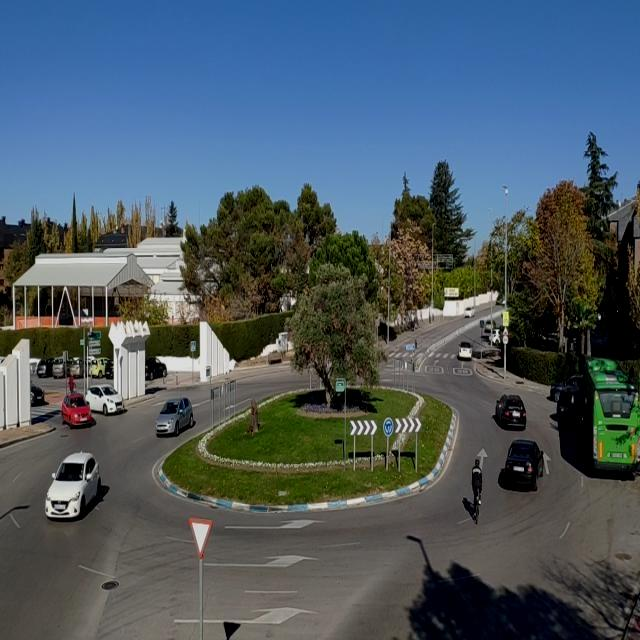Bus: (581, 356, 640, 468)
Car: (43, 449, 98, 522), (504, 438, 544, 487), (153, 395, 194, 437), (494, 394, 528, 429), (86, 385, 125, 413), (62, 393, 90, 425), (458, 342, 473, 360)
Cycle: (471, 458, 484, 521)
